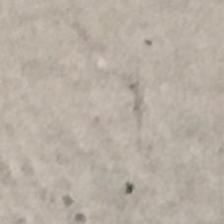Non_Crack: (13, 6, 218, 224)
